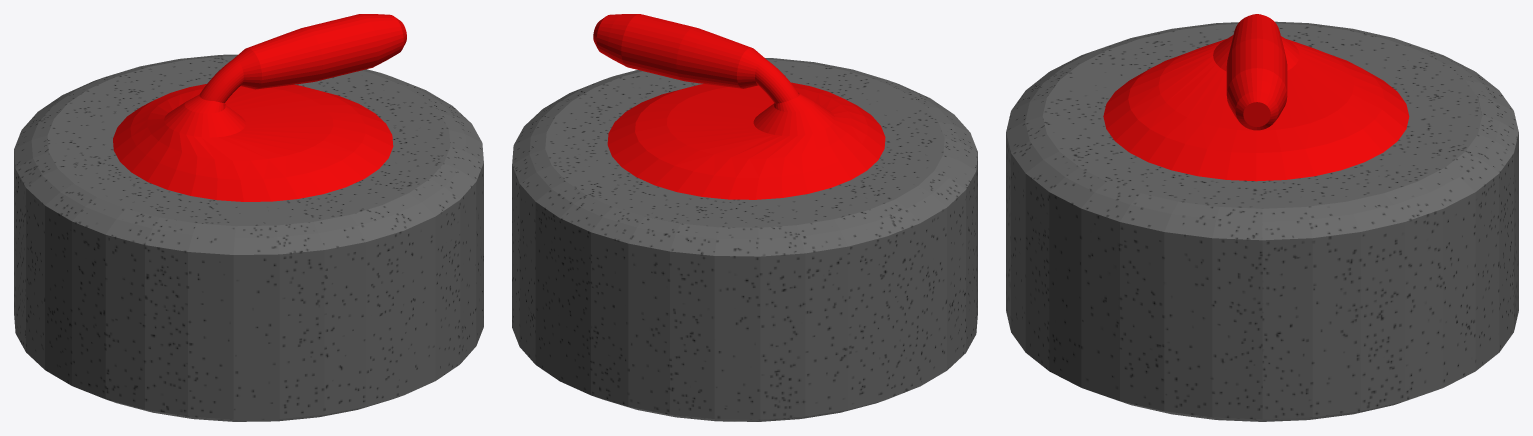
The model's file is stone.obj.
3 views of the same model, side by side, from view 1: azimuth 30°, elevation 25°; view 2: azimuth 150°, elevation 25°; view 3: azimuth 270°, elevation 25° (orthographic). The views are drawn at different scales.
Visible parts, largest first — view 1: Circle.003; view 2: Circle.003; view 3: Circle.003.
Part boxes in pixels (<box>): Circle.003: <box>14,14,483,421</box>; Circle.003: <box>512,14,977,421</box>; Circle.003: <box>1006,14,1518,421</box>.
Bounding box in the file's own units: 1 × 0.6874 × 1.
1 material, 1 textured.
